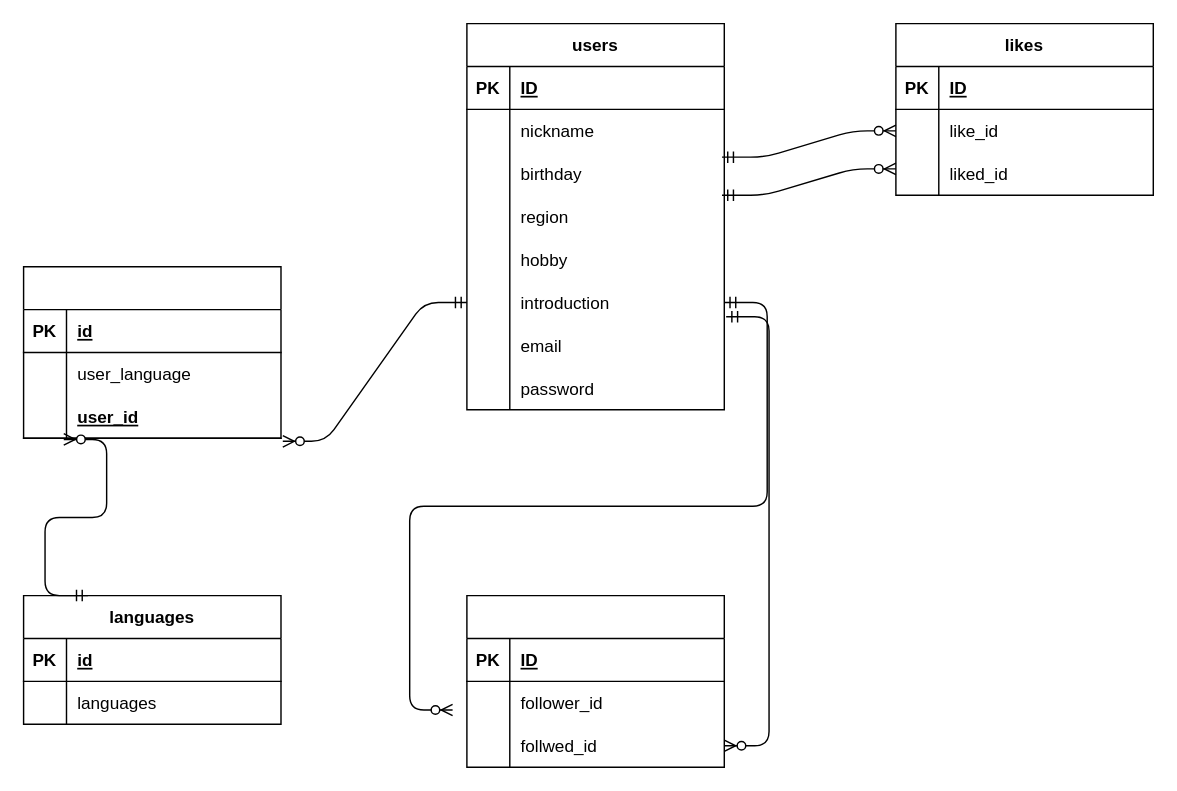
Some shapes in this 1177 by 791 pixel diagram are drawn without their labels. Each missing label, with the box of its shape:
user_followers: (465, 594, 724, 767)
user_languages: (22, 265, 281, 438)
